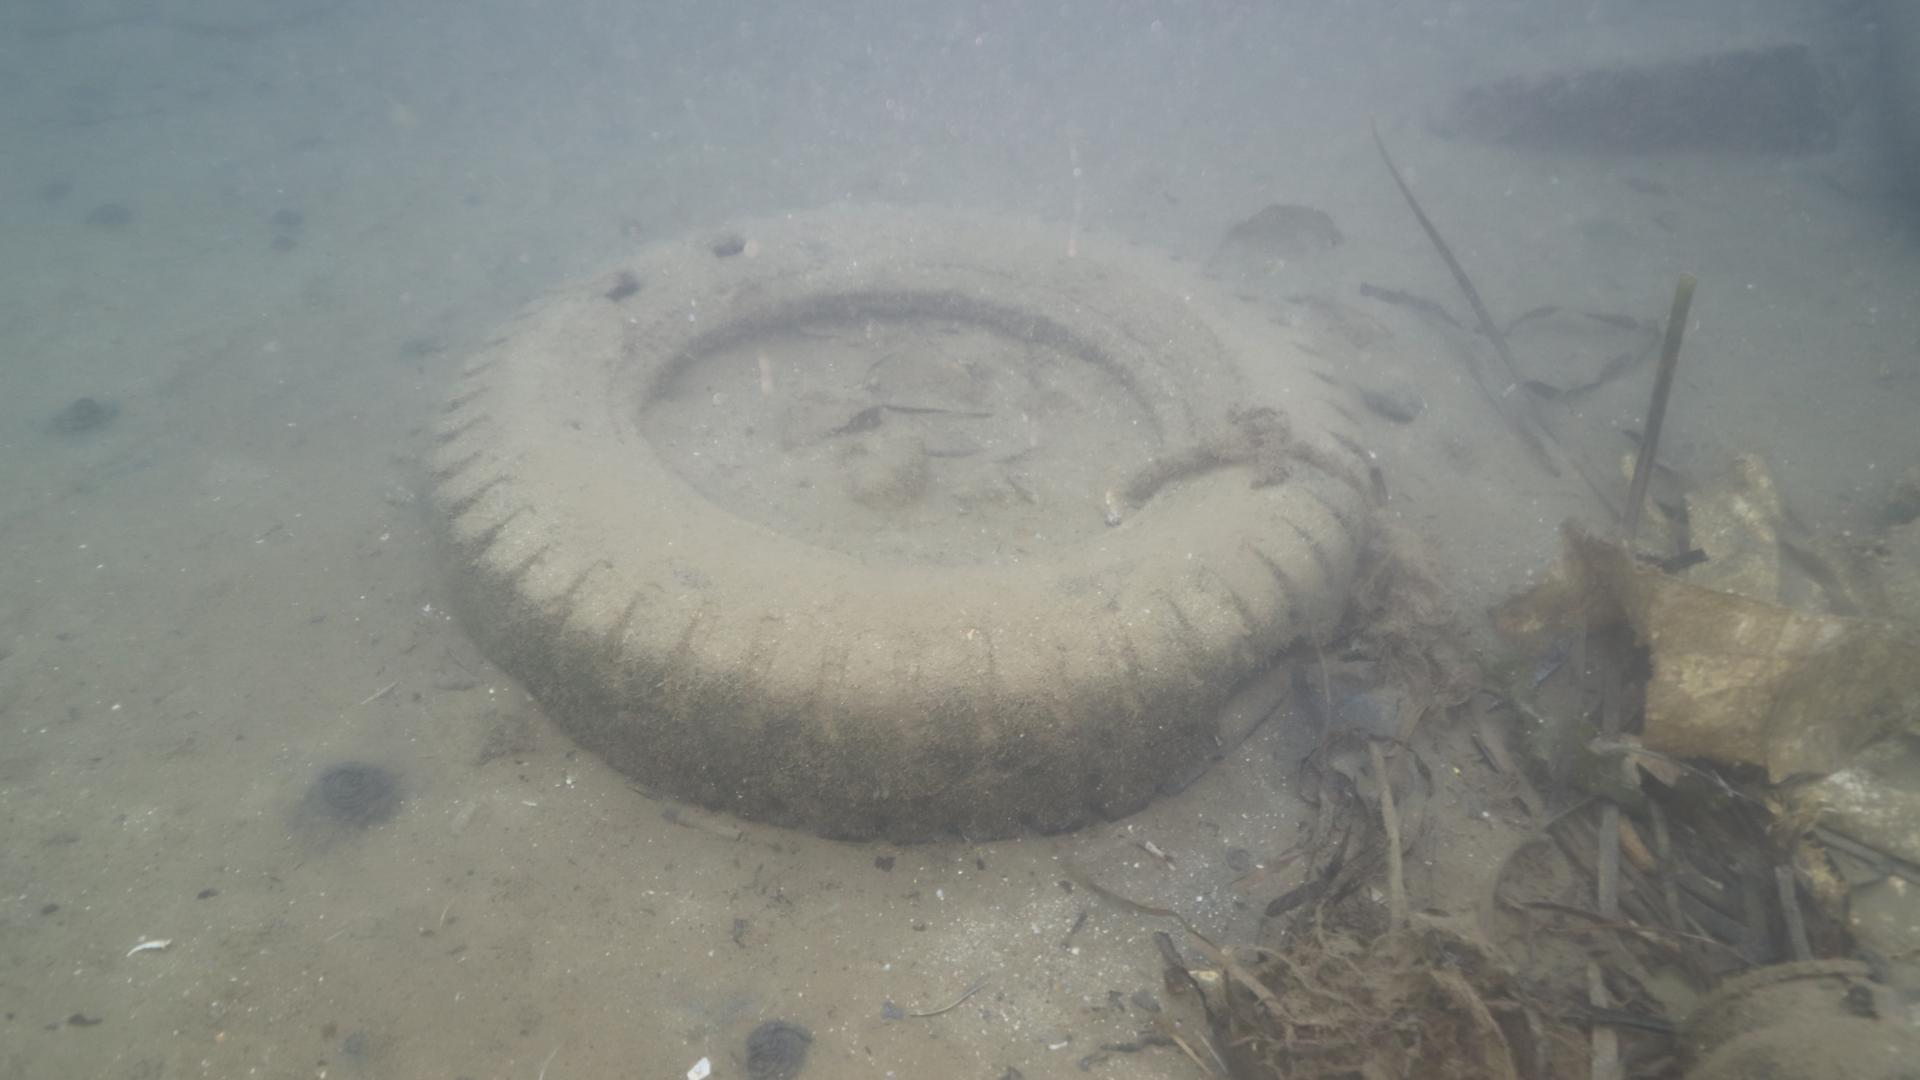rope: (1117, 422, 1377, 513)
tire: (425, 194, 1371, 844)
